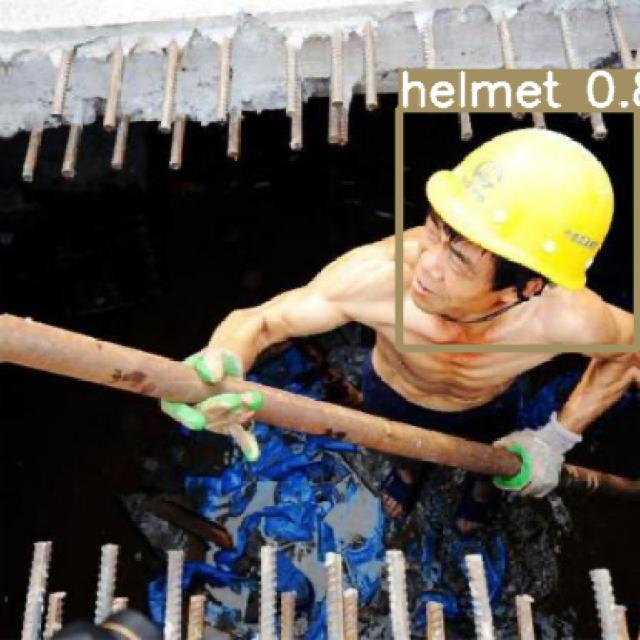Helmet: (424, 125, 614, 291)
